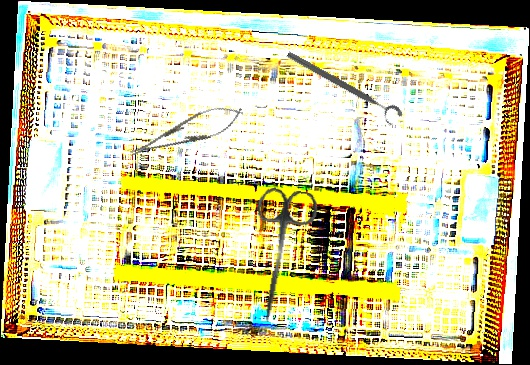Fixation Ring: (281, 47, 405, 130)
Iris Scissors: (239, 185, 321, 327)
Needle Holder: (124, 97, 248, 167)
